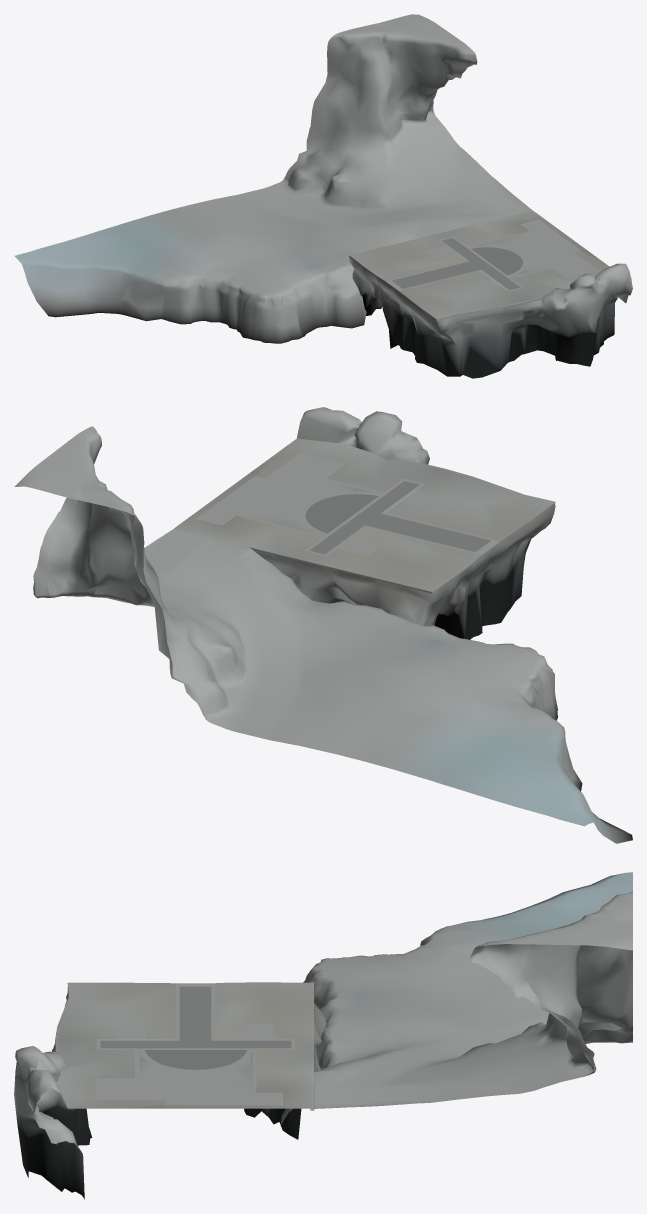
3 views of the same model, one above another, from view 1: azimuth 30°, elevation 25°; view 2: azimuth 150°, elevation 25°; view 3: azimuth 270°, elevation 25° (orthographic). The views are drawn at different scales.
Visible parts, largest first — view 1: G:\FFXIV-MapTools\exports\s1f2\bg\ffxiv\sea_s1\fld\s1f2\bgpl (×24); view 2: G:\FFXIV-MapTools\exports\s1f2\bg\ffxiv\sea_s1\fld\s1f2\bgpl (×22); view 3: G:\FFXIV-MapTools\exports\s1f2\bg\ffxiv\sea_s1\fld\s1f2\bgpl (×21).
Part boxes in pixels (box(x1,y1,x2,y2)): G:\FFXIV-MapTools\exports\s1f2\bg\ffxiv\sea_s1\fld\s1f2\bgpl (×24): box(14, 14, 632, 378); G:\FFXIV-MapTools\exports\s1f2\bg\ffxiv\sea_s1\fld\s1f2\bgpl (×22): box(14, 407, 632, 843); G:\FFXIV-MapTools\exports\s1f2\bg\ffxiv\sea_s1\fld\s1f2\bgpl (×21): box(14, 872, 632, 1199).
Bounding box in the file's own units: 128 × 59.1 × 120.
